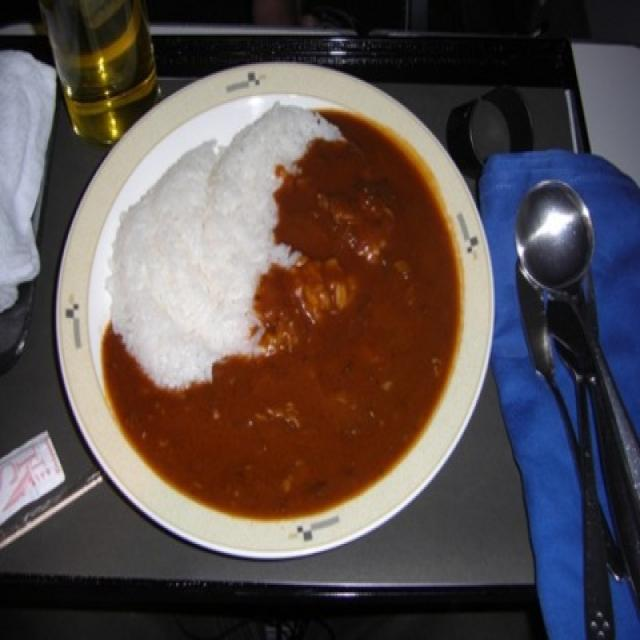Beef Curry: (143, 134, 460, 546)
Rice: (106, 110, 274, 346)
